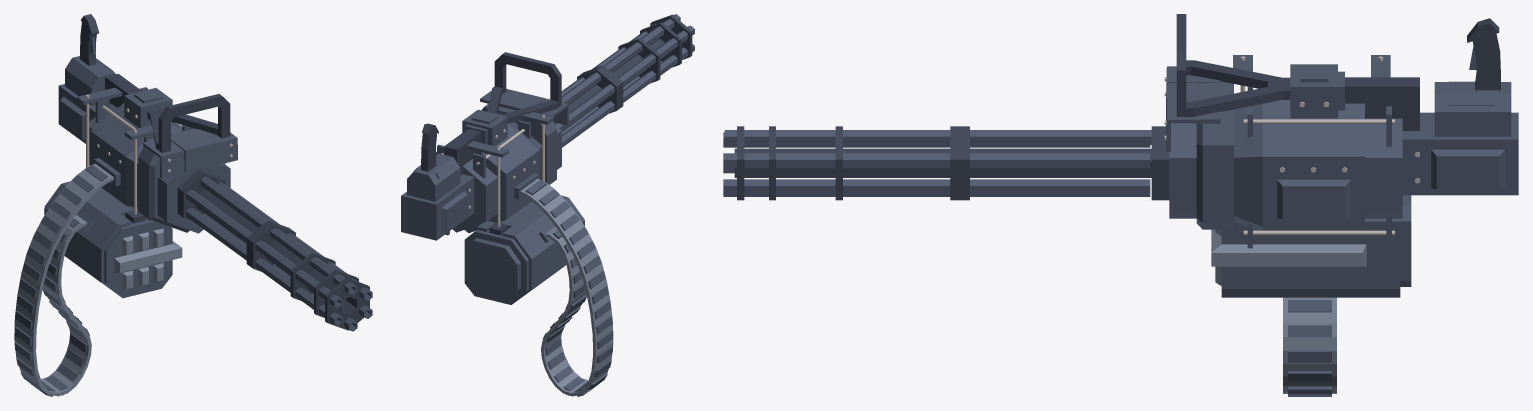
Rendered from weapon.glb.
The picture shows the model from 3 angles, left to right: view 1: azimuth 30°, elevation 25°; view 2: azimuth 150°, elevation 25°; view 3: azimuth 270°, elevation 25°; orthographic projection. The views are drawn at different scales.
Parts seen in each view (by area): view 1: Line001, Cylinder001, Object001_Material #42_0, Cylinder009_Material #42_0, Box012_Material #42_0, Cylinder010_Material #42_0, Box031_Material #46_0, Cylinder007_Material #42_0, Cylinder002_Material #42_0, Cylinder006_Material #42_0, Cylinder018_Material #42_0, Cylinder019_Material #42_0 (+10 smaller); view 2: Line001, Cylinder010_Material #42_0, Cylinder001, Object001_Material #42_0, Cylinder009_Material #42_0, Box001, Box031_Material #46_0, Box003_Material #42_0, Cylinder034_Material #42_0, Cylinder007_Material #42_0, Cylinder006_Material #42_0, Cylinder002_Material #42_0 (+11 smaller); view 3: Cylinder009_Material #42_0, Cylinder001, Cylinder010_Material #42_0, Cylinder003_Material #42_0, Cylinder004_Material #42_0, Cylinder002_Material #42_0, Box001, Cylinder019_Material #42_0, Box031_Material #46_0, Box024, Box003_Material #42_0, Cylinder034_Material #42_0 (+12 smaller).
Part boxes in pixels (bbox=[...]): Line001: bbox=[14, 163, 113, 396]; Cylinder001: bbox=[177, 170, 369, 330]; Object001_Material #42_0: bbox=[44, 181, 151, 282]; Cylinder009_Material #42_0: bbox=[90, 103, 182, 209]; Box012_Material #42_0: bbox=[143, 129, 237, 178]; Cylinder010_Material #42_0: bbox=[44, 184, 172, 298]; Box031_Material #46_0: bbox=[147, 94, 230, 152]; Cylinder007_Material #42_0: bbox=[186, 189, 342, 308]; Cylinder002_Material #42_0: bbox=[200, 176, 357, 295]; Cylinder006_Material #42_0: bbox=[186, 207, 342, 326]; Cylinder018_Material #42_0: bbox=[157, 163, 230, 233]; Cylinder019_Material #42_0: bbox=[138, 128, 225, 232]; Line001: bbox=[520, 178, 613, 396]; Cylinder010_Material #42_0: bbox=[464, 198, 584, 304]; Cylinder001: bbox=[554, 14, 692, 131]; Object001_Material #42_0: bbox=[477, 195, 584, 290]; Cylinder009_Material #42_0: bbox=[436, 122, 541, 233]; Box001: bbox=[401, 174, 474, 240]; Box031_Material #46_0: bbox=[487, 52, 561, 123]; Box003_Material #42_0: bbox=[407, 153, 460, 201]; Cylinder034_Material #42_0: bbox=[452, 159, 497, 232]; Cylinder007_Material #42_0: bbox=[554, 25, 694, 130]; Cylinder006_Material #42_0: bbox=[562, 44, 694, 147]; Cylinder002_Material #42_0: bbox=[561, 14, 680, 103]; Cylinder009_Material #42_0: bbox=[1234, 100, 1364, 230]; Cylinder001: bbox=[734, 126, 1169, 200]; Cylinder010_Material #42_0: bbox=[1221, 195, 1411, 297]; Cylinder003_Material #42_0: bbox=[723, 153, 1150, 168]; Cylinder004_Material #42_0: bbox=[723, 179, 1150, 194]; Cylinder002_Material #42_0: bbox=[724, 130, 1151, 144]; Box001: bbox=[1402, 112, 1518, 195]; Cylinder019_Material #42_0: bbox=[1196, 81, 1233, 229]; Box031_Material #46_0: bbox=[1176, 14, 1290, 116]; Box024: bbox=[1211, 229, 1366, 266]; Box003_Material #42_0: bbox=[1434, 82, 1511, 136]; Cylinder034_Material #42_0: bbox=[1365, 118, 1402, 218].
Bounding box in the file's own units: 1174 × 1981 × 3233.
